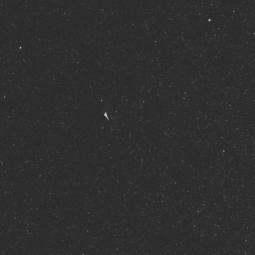proba_3_ocs: (74, 77, 128, 136)
